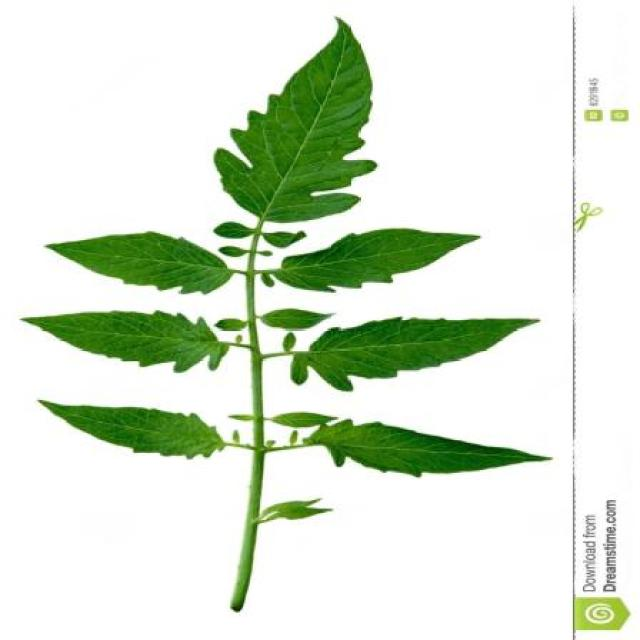Healthy: (212, 14, 378, 224), (288, 315, 542, 392), (304, 416, 554, 479), (273, 226, 484, 293), (17, 307, 229, 373), (41, 230, 233, 296), (37, 397, 226, 460)
